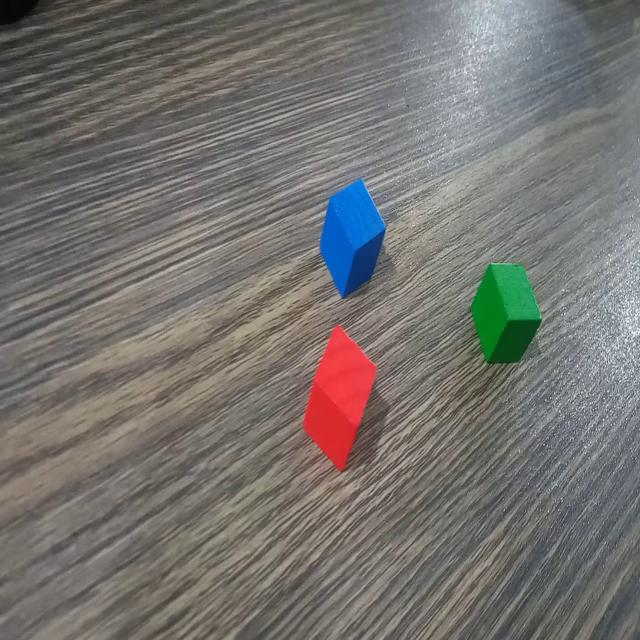cube: (299, 322, 379, 469), (317, 174, 387, 299), (469, 260, 544, 366)
